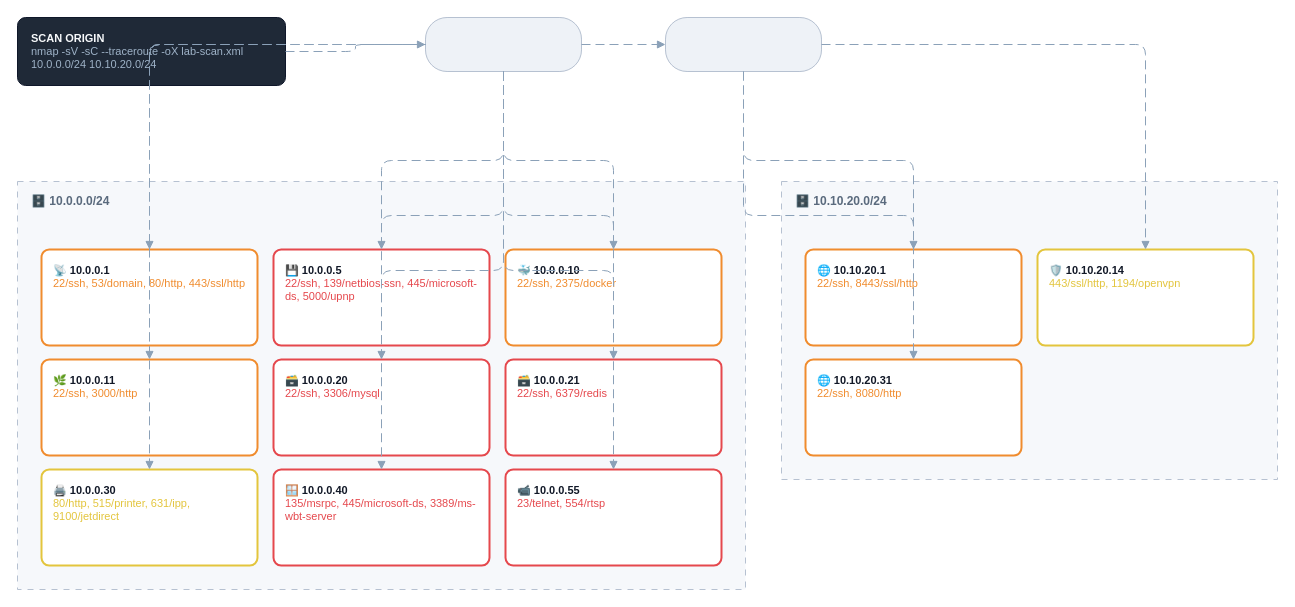
Image size: 1295x607. Some labels were removed from this diagram. Each missing label, with the centre of its shape:
"hop 1 10.0.0.1" belongs at point 503,44.
"hop 2 10.0.0.254" belongs at point 743,44.
